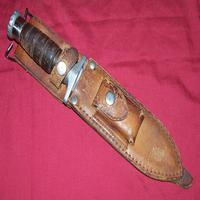knife: (3, 5, 194, 185)
